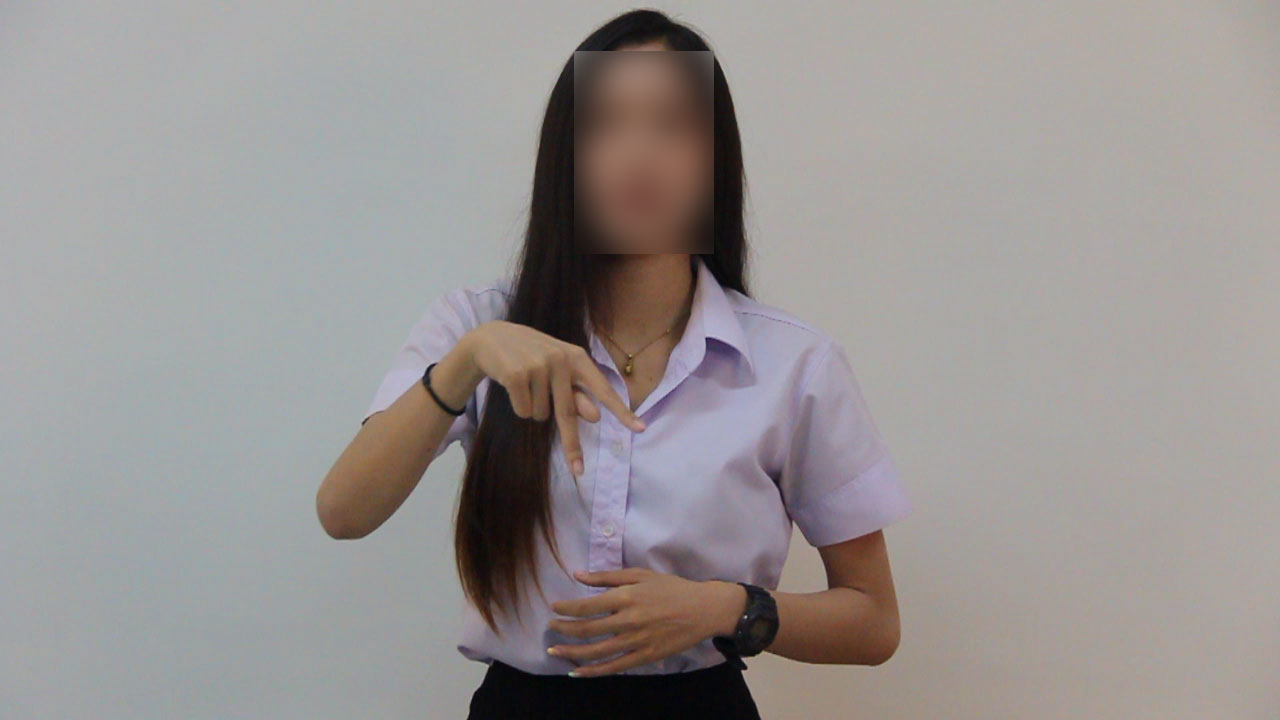por: (451, 300, 651, 485)
